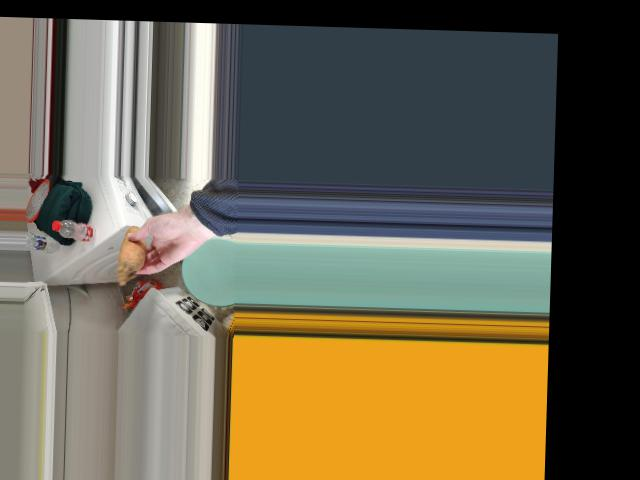sweet_potato: (117, 229, 144, 274)
